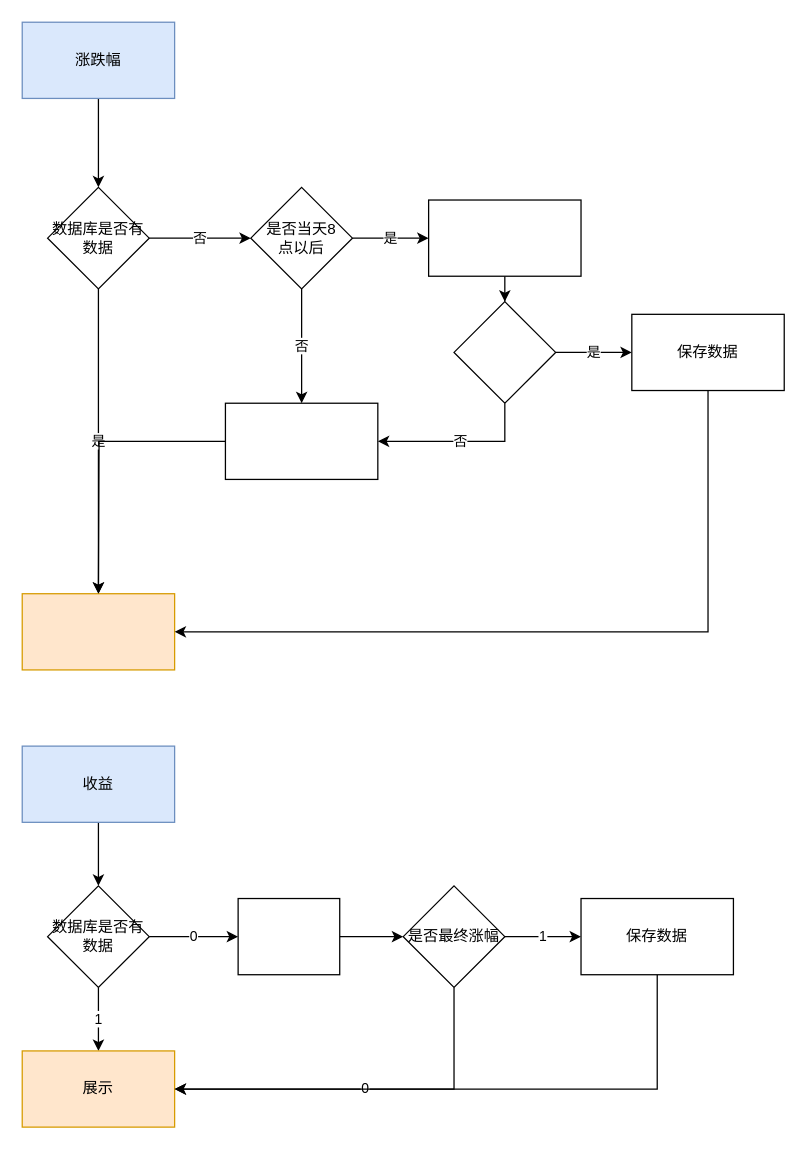
Image size: 806x1149. Some labels were removed from this diagram. The box of each missing label's shape, as (x1, y1, x2, y2) in pixels:
展示数据: (21, 592, 175, 670)
是否有数据: (453, 300, 556, 403)
获取涨幅: (237, 897, 340, 975)
请求动态接口: (224, 402, 378, 479)
请求最终接口: (427, 199, 581, 276)
